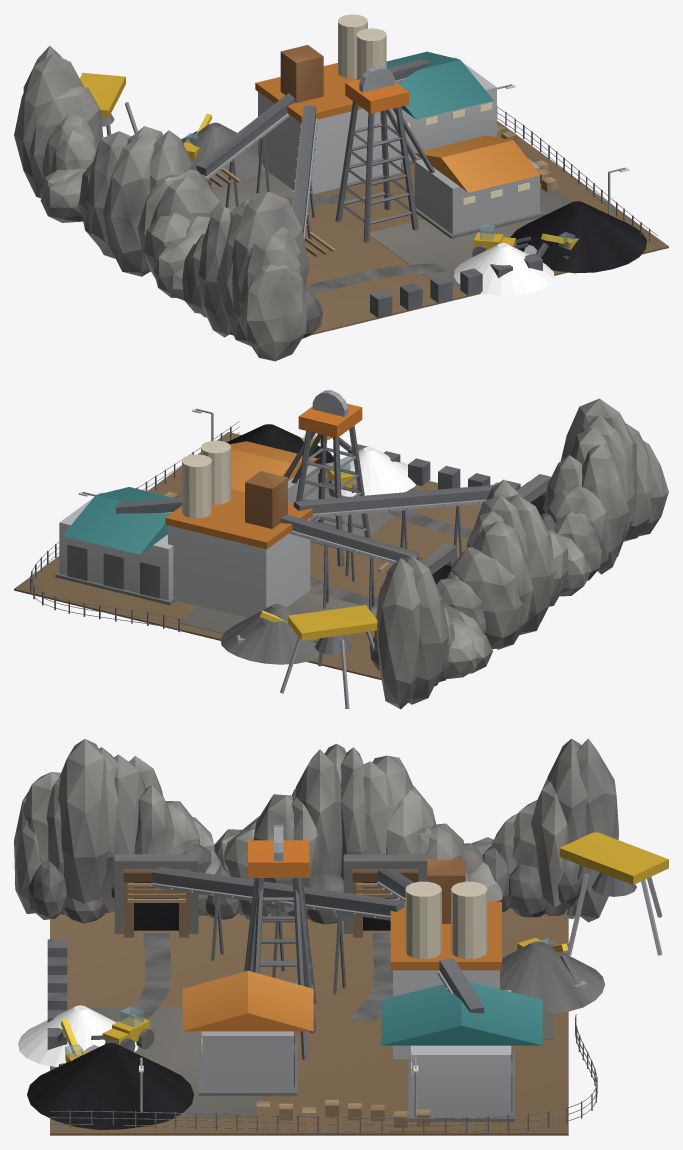
The model's file is Mine_P2.fbx.
3 renders of one model, top to bottom at view 1: azimuth 30°, elevation 25°; view 2: azimuth 150°, elevation 25°; view 3: azimuth 270°, elevation 25°, orthographic. The views are drawn at different scales.
Parts seen in each view (by area): view 1: Mine.Cliff, Mine.Apron, Mine.Plant, Mine.Winder, Mine.Headframe, Mine.Crusher, Mine.Spoil0, Mine.Clutter, Mine.Spoil1, Mine.Conv1, Mine.Conv0, Mine.Spoil2 (+4 smaller); view 2: Mine.Cliff, Mine.Plant, Mine.Apron, Mine.Crusher, Mine.Headframe, Mine.Conv0, Mine.LoadGantry, Mine.Spoil2, Mine.Conv1, Mine.Winder, Mine.Spoil1, Mine.Clutter (+8 smaller); view 3: Mine.Cliff, Mine.Apron, Mine.Crusher, Mine.Winder, Mine.Plant, Mine.Spoil0, Mine.Headframe, Mine.Conv0, Mine.Adit0, Mine.LoadGantry, Mine.Spoil2, Mine.Clutter (+9 smaller).
Part boxes in pixels (x1,y1,x2,y2): Mine.Cliff: (14,46,322,361); Mine.Apron: (211,120,668,335); Mine.Plant: (255,14,400,194); Mine.Winder: (414,135,544,238); Mine.Headframe: (335,66,435,242); Mine.Crusher: (386,51,498,166); Mine.Spoil0: (510,201,647,273); Mine.Clutter: (370,124,556,317); Mine.Spoil1: (454,243,554,295); Mine.Conv1: (196,93,295,207); Mine.Conv0: (291,106,317,240); Mine.Spoil2: (181,122,265,182); Mine.Cliff: (369,398,668,709); Mine.Plant: (165,440,312,617); Mine.Apron: (14,432,481,679); Mine.Crusher: (55,487,176,605); Mine.Headframe: (284,390,370,566); Mine.Conv0: (293,483,515,581); Mine.LoadGantry: (280,605,379,708); Mine.Spoil2: (220,604,323,664); Mine.Conv1: (280,514,419,611); Mine.Winder: (229,441,318,520); Mine.Spoil1: (340,447,415,496); Mine.Clutter: (164,444,520,497); Mine.Cliff: (14,738,618,924); Mine.Apron: (50,907,568,1135); Mine.Crusher: (381,982,542,1121); Mine.Winder: (182,970,313,1096); Mine.Plant: (390,859,501,1059); Mine.Spoil0: (27,1043,193,1129); Mine.Headframe: (244,825,316,1060); Mine.Conv0: (150,867,404,994); Mine.Adit0: (114,854,198,937); Mine.LoadGantry: (559,832,668,955); Mine.Spoil2: (500,941,604,1013); Mine.Clutter: (47,939,430,1127).
Bounding box in the file's own units: 8134 × 3117 × 8587.
